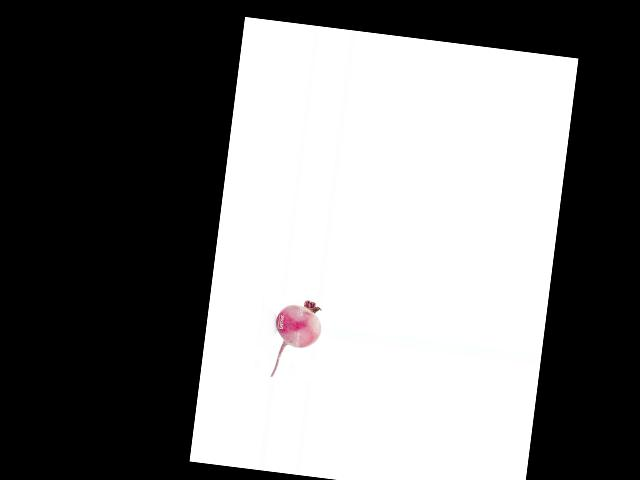beet: (269, 296, 324, 381)
